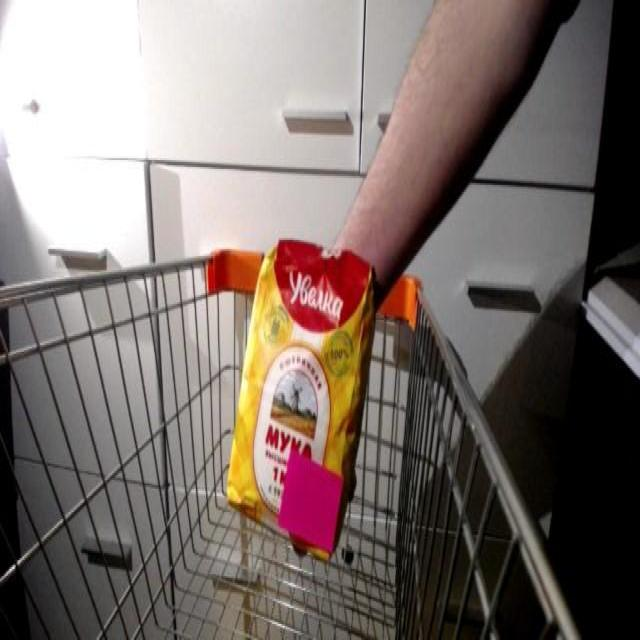Almond Milk: (221, 227, 383, 569)
